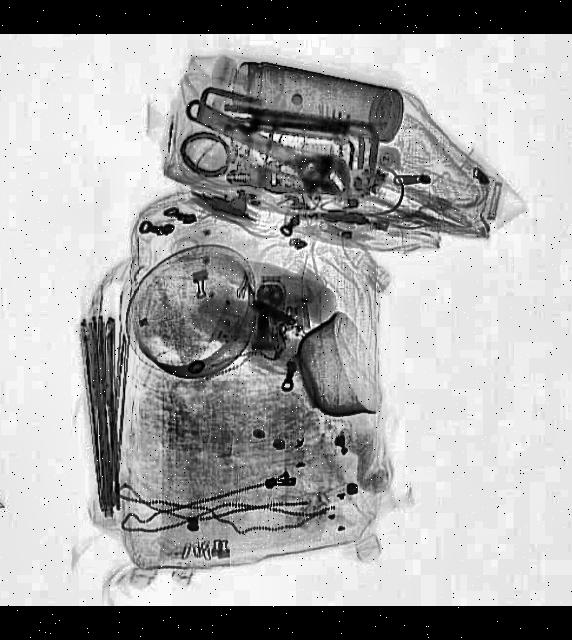Wrench: (176, 85, 360, 211)
